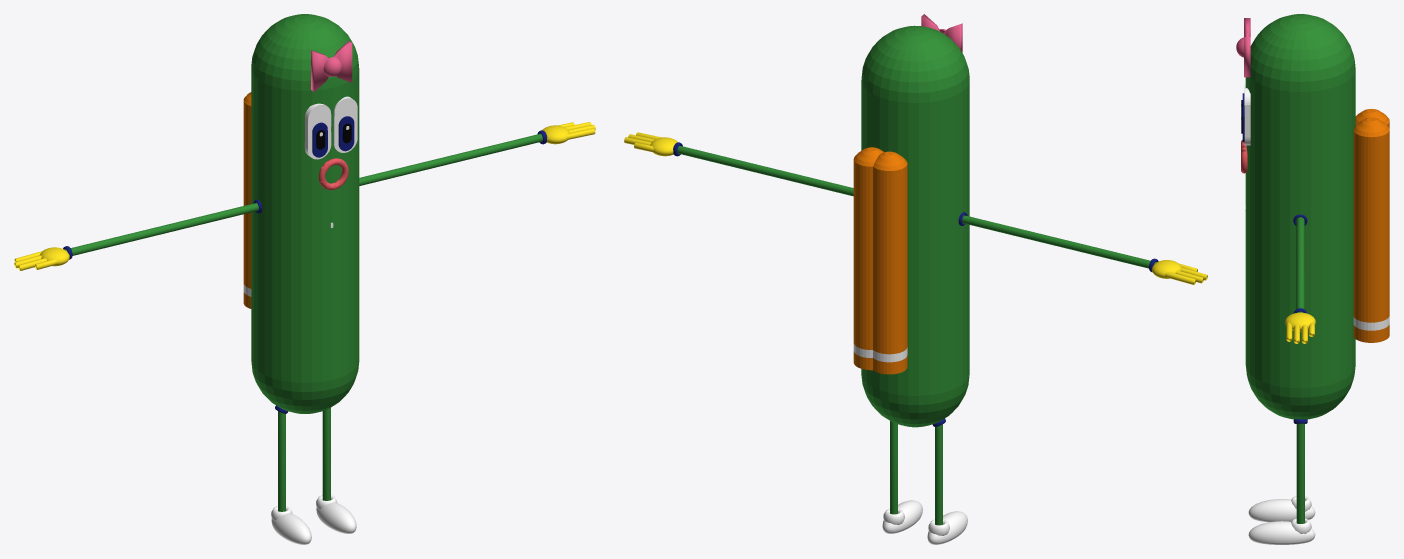
File: Pickle.fbx
3 renders of one model, left to right at view 1: azimuth 30°, elevation 25°; view 2: azimuth 150°, elevation 25°; view 3: azimuth 270°, elevation 25°, orthographic.
Visible parts, largest first — view 1: Sphere, Jetpack, Cylinder, Cylinder.010, Cube, REYE, Sphere.003, Sphere.005, Cylinder.011, Cylinder.005, REYE.001; view 2: Sphere, Jetpack, Cylinder, Cylinder.010, Cylinder.005, Cylinder.011, Sphere.003, Sphere.005; view 3: Sphere, Jetpack, Sphere.005, Sphere.003, Cylinder.011, Cylinder.010, Cube, REYE.001, Sphere.004, Torus.007, Mouth.
Part boxes in pixels (x1=…): Sphere: x1=251, y1=14, x2=359, y2=413; Jetpack: x1=243, y1=92, x2=251, y2=308; Cylinder: x1=65, y1=203, x2=258, y2=255; Cylinder.010: x1=359, y1=133, x2=542, y2=185; Cube: x1=311, y1=41, x2=352, y2=91; REYE: x1=304, y1=103, x2=331, y2=159; Sphere.003: x1=271, y1=513, x2=311, y2=544; Sphere.005: x1=316, y1=502, x2=356, y2=533; Cylinder.011: x1=322, y1=407, x2=330, y2=500; Cylinder.005: x1=278, y1=411, x2=285, y2=511; REYE.001: x1=333, y1=96, x2=357, y2=152; Sphere: x1=861, y1=25, x2=969, y2=427; Jetpack: x1=853, y1=147, x2=907, y2=374; Cylinder: x1=962, y1=215, x2=1156, y2=268; Cylinder.010: x1=677, y1=145, x2=853, y2=196; Cylinder.005: x1=935, y1=424, x2=942, y2=525; Cylinder.011: x1=890, y1=421, x2=897, y2=514; Sphere.003: x1=927, y1=511, x2=967, y2=544; Sphere.005: x1=882, y1=500, x2=922, y2=533; Sphere: x1=1245, y1=14, x2=1355, y2=419; Jetpack: x1=1353, y1=109, x2=1389, y2=342; Sphere.005: x1=1248, y1=521, x2=1315, y2=544; Sphere.003: x1=1248, y1=499, x2=1315, y2=522; Cylinder.011: x1=1296, y1=423, x2=1304, y2=523; Cylinder.010: x1=1296, y1=217, x2=1304, y2=312; Cube: x1=1244, y1=18, x2=1250, y2=77; REYE.001: x1=1244, y1=88, x2=1250, y2=145; Sphere.004: x1=1285, y1=312, x2=1315, y2=331; Torus.007: x1=1291, y1=518, x2=1311, y2=533; Mouth: x1=1241, y1=140, x2=1247, y2=173.
Size of the model in its own units: 4902 by 4093 by 1118.
